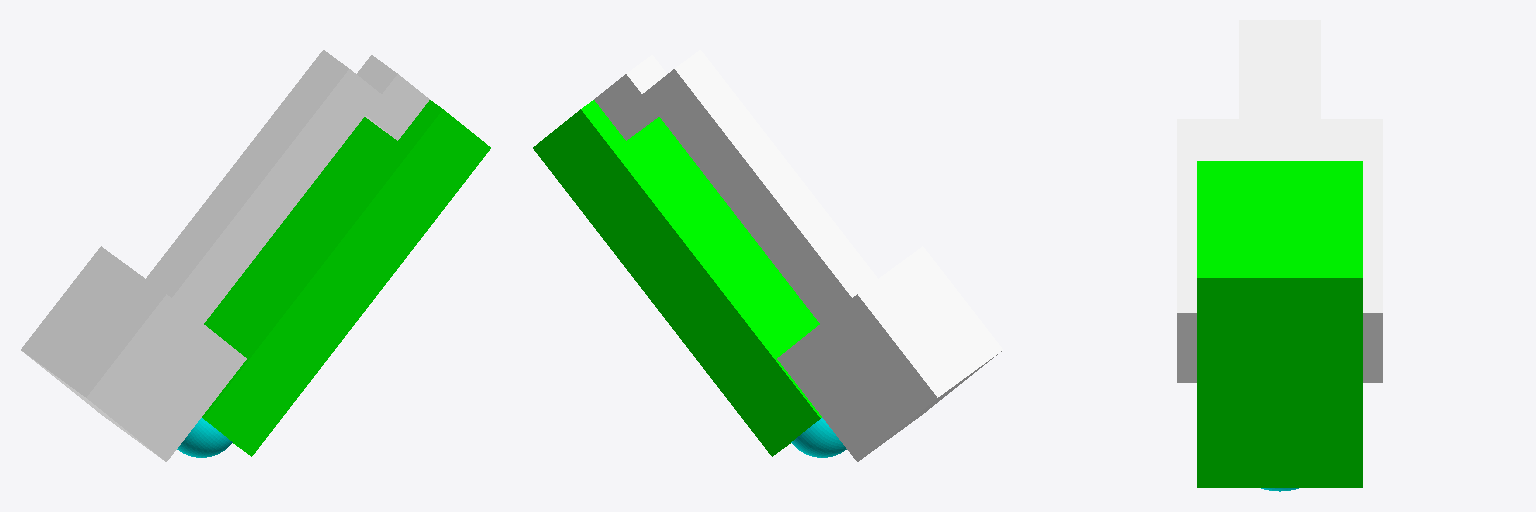
robot.urdf — test:
<?xml version="1.0" ?>
<robot name="test">
  <link name="foot_1">
    <visual name="foot_1_visual">
      <origin xyz="0 0 0" rpy="0 0 0"/>
      <geometry>
        <mesh filename="meshes/foot_1.stl"/>
      </geometry>
      <material name="foot_1-material">
        <color rgba="0 1 1 1"/>
      </material>
    </visual>
    <collision name="foot_1_collision">
      <origin xyz="0 0 0" rpy="0 0 0"/>
      <geometry>
        <mesh filename="meshes/foot_1.stl"/>
      </geometry>
    </collision>
    <inertial>
      <mass value="0"/>
      <inertia ixx="0" iyy="0" izz="0" ixy="0" ixz="0" iyz="0"/>
      <origin xyz="0 0 0" rpy="0 0 0"/>
    </inertial>
  </link>
  <link name="Part_2_1">
    <visual name="Part_2_1_visual">
      <origin xyz="0 0 0" rpy="0 0 0"/>
      <geometry>
        <mesh filename="meshes/Part_2_1.stl"/>
      </geometry>
      <material name="Part_2_1-material">
        <color rgba="0 1 0 1"/>
      </material>
    </visual>
    <collision name="Part_2_1_collision">
      <origin xyz="0 0 0" rpy="0 0 0"/>
      <geometry>
        <mesh filename="meshes/Part_2_1.stl"/>
      </geometry>
    </collision>
    <inertial>
      <mass value="0"/>
      <inertia ixx="0" iyy="0" izz="0" ixy="0" ixz="0" iyz="0"/>
      <origin xyz="-4.1359031e-19 0.0015 -2.7572687e-19" rpy="0 0 0"/>
    </inertial>
  </link>
  <link name="Part_3_1">
    <visual name="Part_3_1_visual">
      <origin xyz="0 0 0" rpy="0 0 0"/>
      <geometry>
        <mesh filename="meshes/Part_3_1.stl"/>
      </geometry>
      <material name="Part_3_1-material">
        <color rgba="1 1 1 1"/>
      </material>
    </visual>
    <collision name="Part_3_1_collision">
      <origin xyz="0 0 0" rpy="0 0 0"/>
      <geometry>
        <mesh filename="meshes/Part_3_1.stl"/>
      </geometry>
    </collision>
    <inertial>
      <mass value="0"/>
      <inertia ixx="0" iyy="0" izz="0" ixy="0" ixz="0" iyz="0"/>
      <origin xyz="-0.015948197 0 0.014494675" rpy="0 0 0"/>
    </inertial>
  </link>
  <link name="Part_4_1">
    <visual name="Part_4_1_visual">
      <origin xyz="0 0 0" rpy="0 0 0"/>
      <geometry>
        <mesh filename="meshes/Part_4_1.stl"/>
      </geometry>
      <material name="Part_4_1-material">
        <color rgba="1 1 1 1"/>
      </material>
    </visual>
    <collision name="Part_4_1_collision">
      <origin xyz="0 0 0" rpy="0 0 0"/>
      <geometry>
        <mesh filename="meshes/Part_4_1.stl"/>
      </geometry>
    </collision>
    <inertial>
      <mass value="0"/>
      <inertia ixx="0" iyy="0" izz="0" ixy="0" ixz="0" iyz="0"/>
      <origin xyz="-0.014948197 0 0.016494675" rpy="0 0 0"/>
    </inertial>
  </link>
  <joint name="Revolute_1" type="revolute">
    <origin xyz="-2.1684043e-19 0 0.0015" rpy="-1.5707963 0 0"/>
    <parent link="foot_1"/>
    <child link="Part_2_1"/>
    <axis xyz="0 0 -1"/>
    <limit effort="1" velocity="1" lower="-6.2831853" upper="6.2831853"/>
  </joint>
  <joint name="Slider_1" type="prismatic">
    <origin xyz="0.0094664182 -0.011587739 -2.7572687e-19" rpy="-1.5707963 0 -0.78539816"/>
    <parent link="Part_2_1"/>
    <child link="Part_3_1"/>
    <axis xyz="0 0 -1"/>
    <limit effort="1" velocity="1" lower="-0.1" upper="0.1"/>
  </joint>
  <joint name="Revolute_2" type="revolute">
    <origin xyz="-0.001 -4.1359031e-19 -0.002" rpy="0 0 0"/>
    <parent link="Part_3_1"/>
    <child link="Part_4_1"/>
    <axis xyz="0 0 -1"/>
    <limit effort="1" velocity="1" lower="-6.2831853" upper="6.2831853"/>
  </joint>
</robot>

--- Render facts (derived) ---
Views: 3 orthographic renders of the robot side by side, from view 1: azimuth 30°, elevation 25°; view 2: azimuth 150°, elevation 25°; view 3: azimuth 270°, elevation 25°.
Robot: test — 4 links, 3 joints (2 revolute, 1 prismatic); root link foot_1; default pose: every joint at zero.
Visible links, largest first — view 1: Part_4_1, Part_2_1, Part_3_1, foot_1; view 2: Part_4_1, Part_2_1, Part_3_1, foot_1; view 3: Part_2_1, Part_4_1, Part_3_1.
Link boxes in pixels (box(x1,y1,x2,y2)): Part_4_1: box(21, 50, 381, 461); Part_2_1: box(202, 100, 490, 456); Part_3_1: box(357, 55, 429, 140); foot_1: box(177, 418, 232, 457); Part_4_1: box(642, 50, 1002, 461); Part_2_1: box(533, 100, 821, 456); Part_3_1: box(594, 55, 666, 140); foot_1: box(791, 418, 846, 457); Part_2_1: box(1197, 161, 1362, 487); Part_4_1: box(1177, 20, 1382, 382); Part_3_1: box(1239, 84, 1320, 160).
Size in the robot's own frame: 0.0181 by 0.005 by 0.0152 metres.
4 mesh visuals loaded from 4 distinct referenced files (4 binary STL).